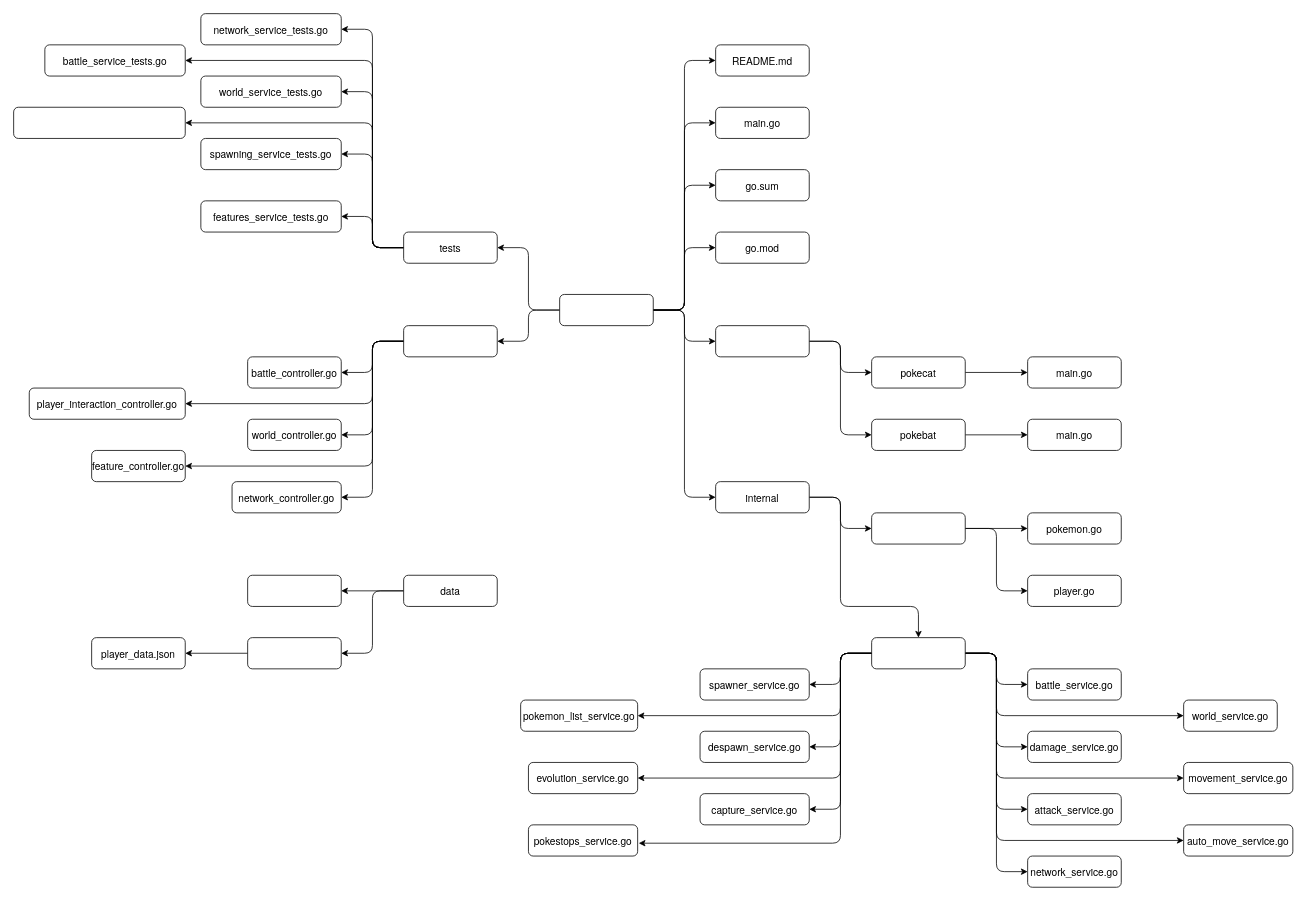
The diagram is 1307 pixels wide and 901 high, and some of its shapes have lost their labels. The shapes that lost their labels are listed below. From the top down, each one's centre as x and y in pixels, then its label:
At (x=99, y=122): "player_interaction_service_tests.go".
At (x=606, y=310): "pokecat_pokebat".
At (x=450, y=341): "controller".
At (x=762, y=341): "cmd".
At (x=918, y=528): "model".
At (x=294, y=590): "pokedex.json".
At (x=294, y=653): "players".
At (x=918, y=653): "service".
